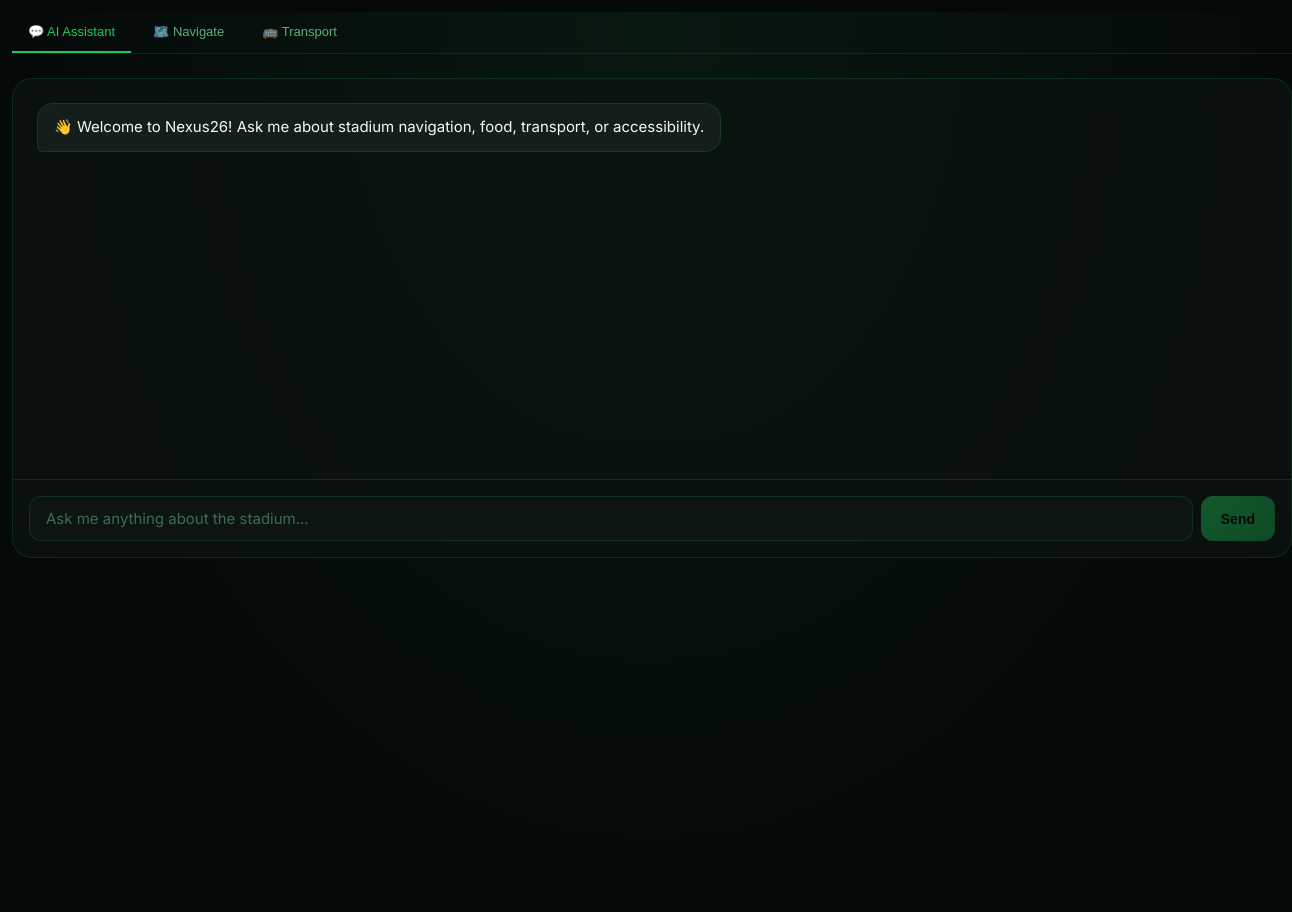
Test case: FanDashboard › switches to Transport tab and shows transport info
The image size is (1292, 912).
What coordinates should you click on to do the following:
click the button "🚌 Transport"
I would click on:
 (300, 32)
Its box is [246, 12, 353, 53].
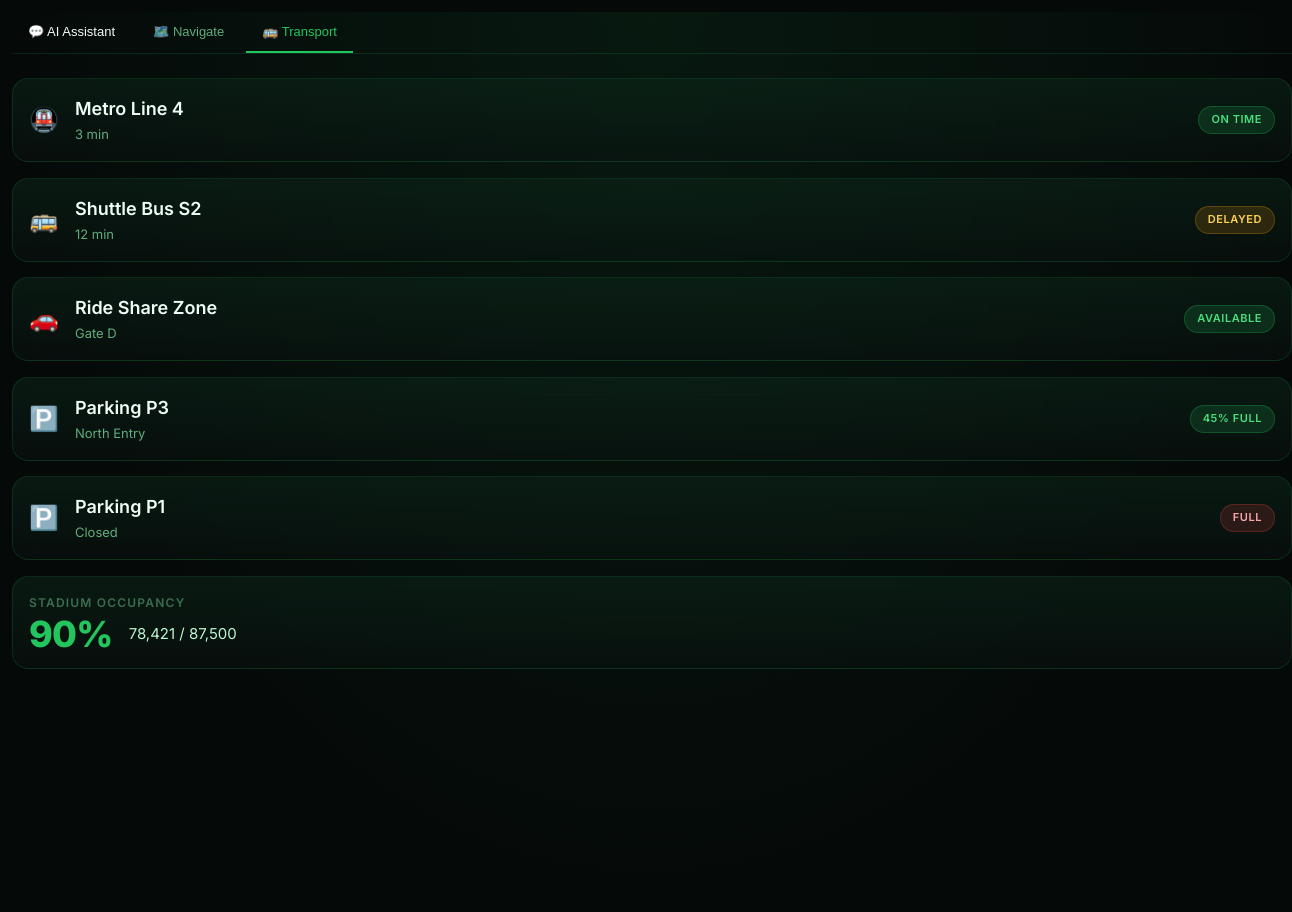
Expected: the text "Metro Line 4" is shown, [75, 95, 184, 124]
Expected: the text "Shuttle Bus S2" is shown, [75, 195, 201, 223]
